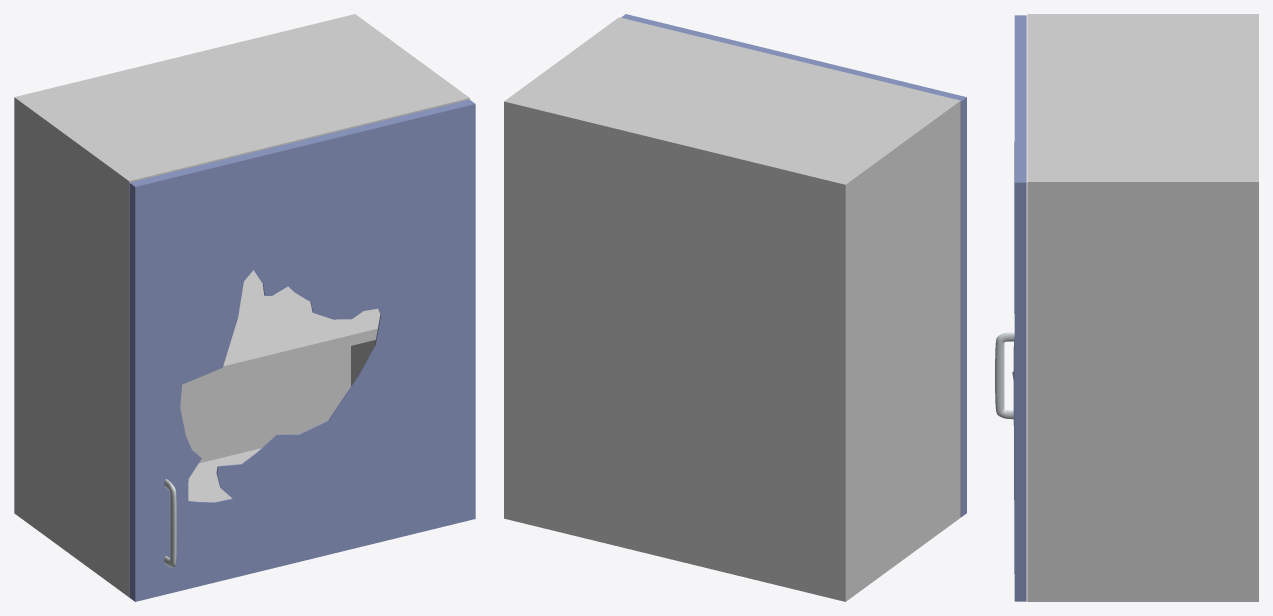
The model's file is Cabinet5.fbx.
3 views of the same model, side by side, from view 1: azimuth 30°, elevation 25°; view 2: azimuth 150°, elevation 25°; view 3: azimuth 270°, elevation 25° (orthographic).
Parts seen in each view (by area): view 1: Cabinet2_Door.001, Cabinet2.001, Handle.005; view 2: Cabinet2.001, Cabinet2_Door.001; view 3: Cabinet2.001, Cabinet2_Door.001, Handle.005.
Boxes of the visible parts, x1,y1,x2,y2 form: Cabinet2_Door.001: (129,99,475,601); Cabinet2.001: (14,14,469,596); Handle.005: (164,479,176,567); Cabinet2.001: (504,17,960,601); Cabinet2_Door.001: (621,14,966,517); Cabinet2.001: (1027,14,1258,601); Cabinet2_Door.001: (1012,15,1026,601); Handle.005: (995,332,1014,419).
Bounding box in the file's own units: 60 × 70 × 39.86.
